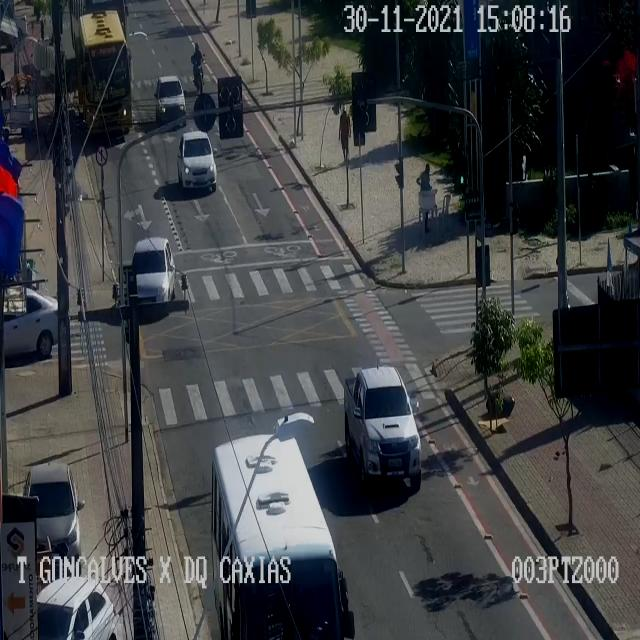Bus: (211, 434, 343, 639), (78, 10, 131, 132), (65, 0, 136, 76)
Car: (344, 366, 421, 490), (24, 464, 80, 572), (36, 576, 117, 639), (4, 288, 58, 357), (132, 237, 175, 303), (176, 131, 216, 190), (155, 76, 185, 124)
Motorcycle: (190, 42, 204, 92)
